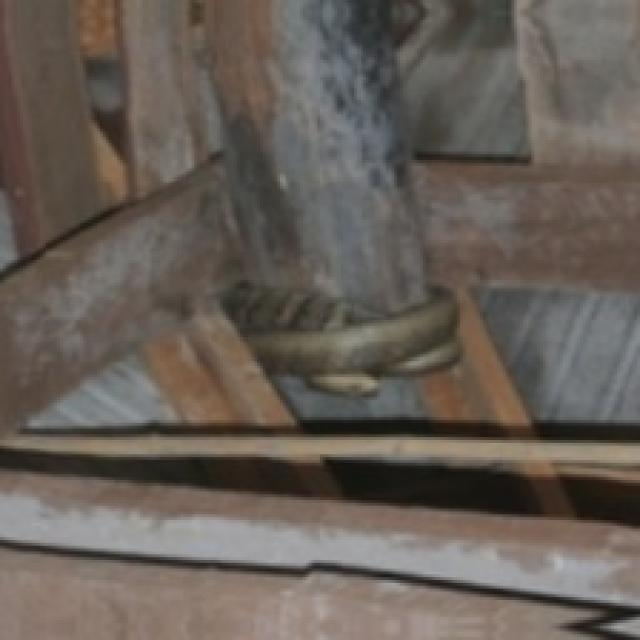king cobra: (0, 0, 454, 429), (223, 283, 457, 394)
